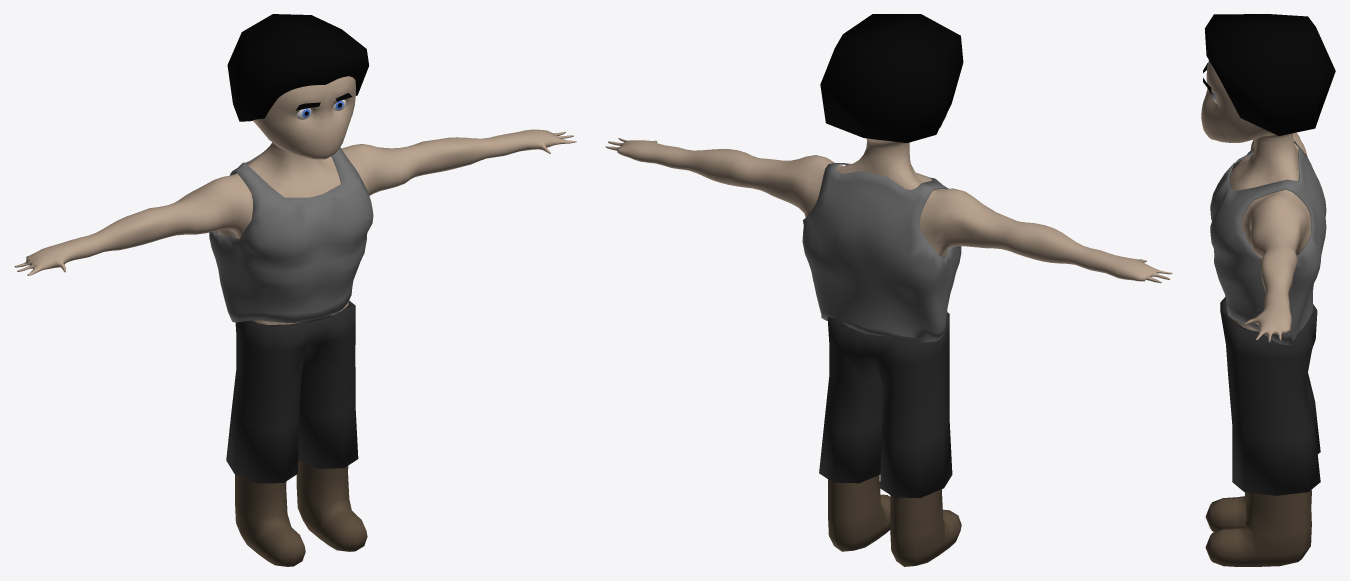
The model's file is chel.fbx.
3 renders of one model, left to right at view 1: azimuth 30°, elevation 25°; view 2: azimuth 150°, elevation 25°; view 3: azimuth 270°, elevation 25°, orthographic.
Parts seen in each view (by area): view 1: GG_low.001; view 2: GG_low.001; view 3: GG_low.001.
Part boxes in pixels (<box>): GG_low.001: <box>14,14,576,566</box>; GG_low.001: <box>605,14,1172,566</box>; GG_low.001: <box>1201,14,1335,566</box>.
Bounding box in the file's own units: 864 × 764 × 177.
